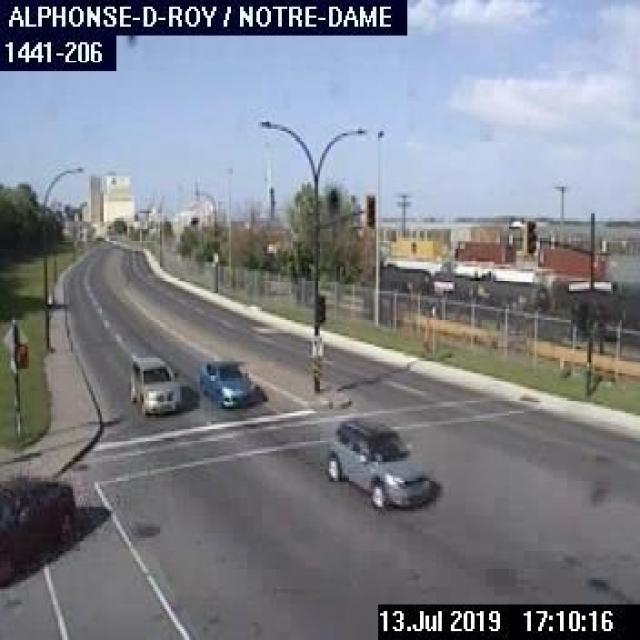vehicle: (322, 411, 429, 507), (0, 471, 73, 580), (198, 351, 258, 409), (127, 351, 180, 413)
